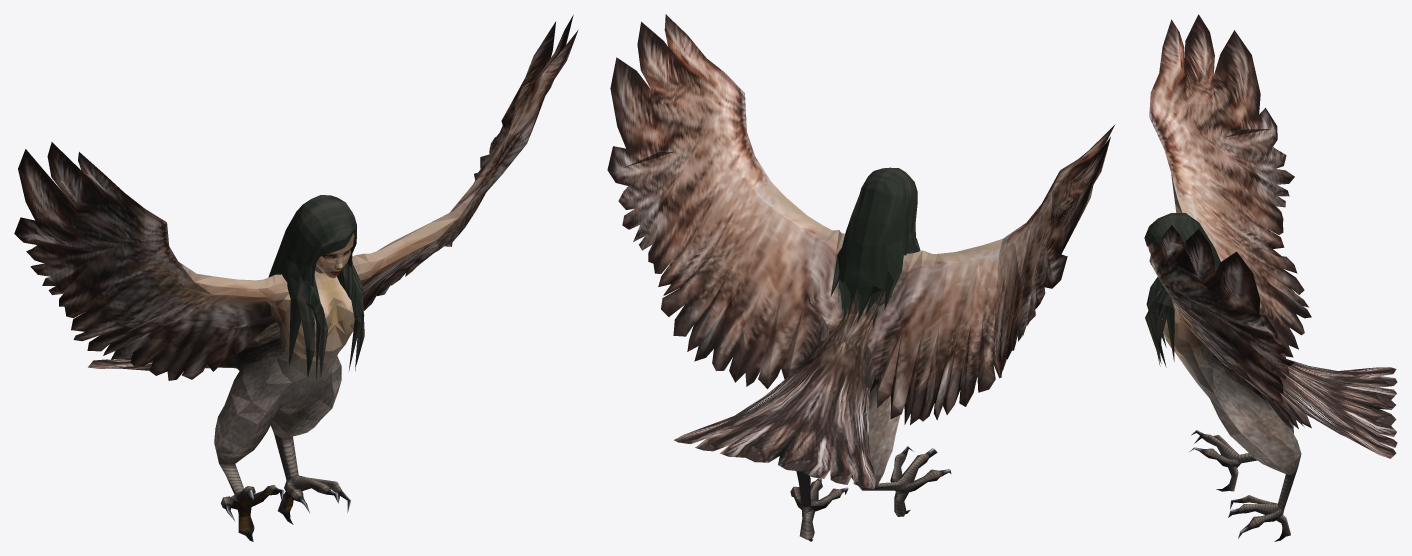
The model's file is Harpy.fbx.
The picture shows the model from 3 angles, left to right: view 1: azimuth 30°, elevation 25°; view 2: azimuth 150°, elevation 25°; view 3: azimuth 270°, elevation 25°; orthographic projection. The views are drawn at different scales.
Parts seen in each view (by area): view 1: Wings, Body; view 2: Wings, Body; view 3: Wings, Body.
Part boxes in pixels (x1,y1,x2,y2): Wings: (14,15,578,419); Body: (214,195,411,541); Wings: (607,14,1114,488); Body: (790,167,951,541); Wings: (1149,14,1397,458); Body: (1144,213,1301,541).
Size of the model in its own units: 1742 by 1521 by 851.
Materials: 2 (2 with a texture image).
